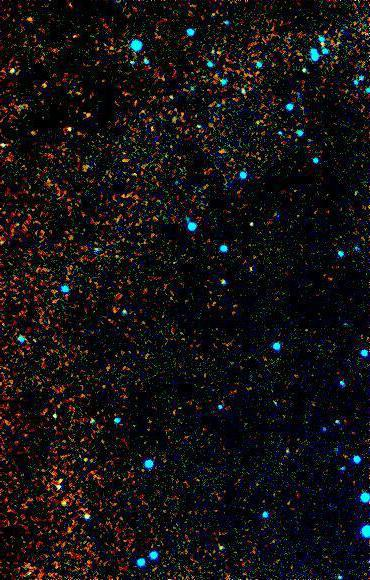star: (16, 5, 46, 35)
